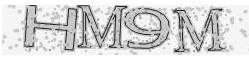9: (123, 6, 172, 50)
H: (23, 4, 78, 52)
M: (76, 4, 129, 52), (171, 8, 227, 53)
